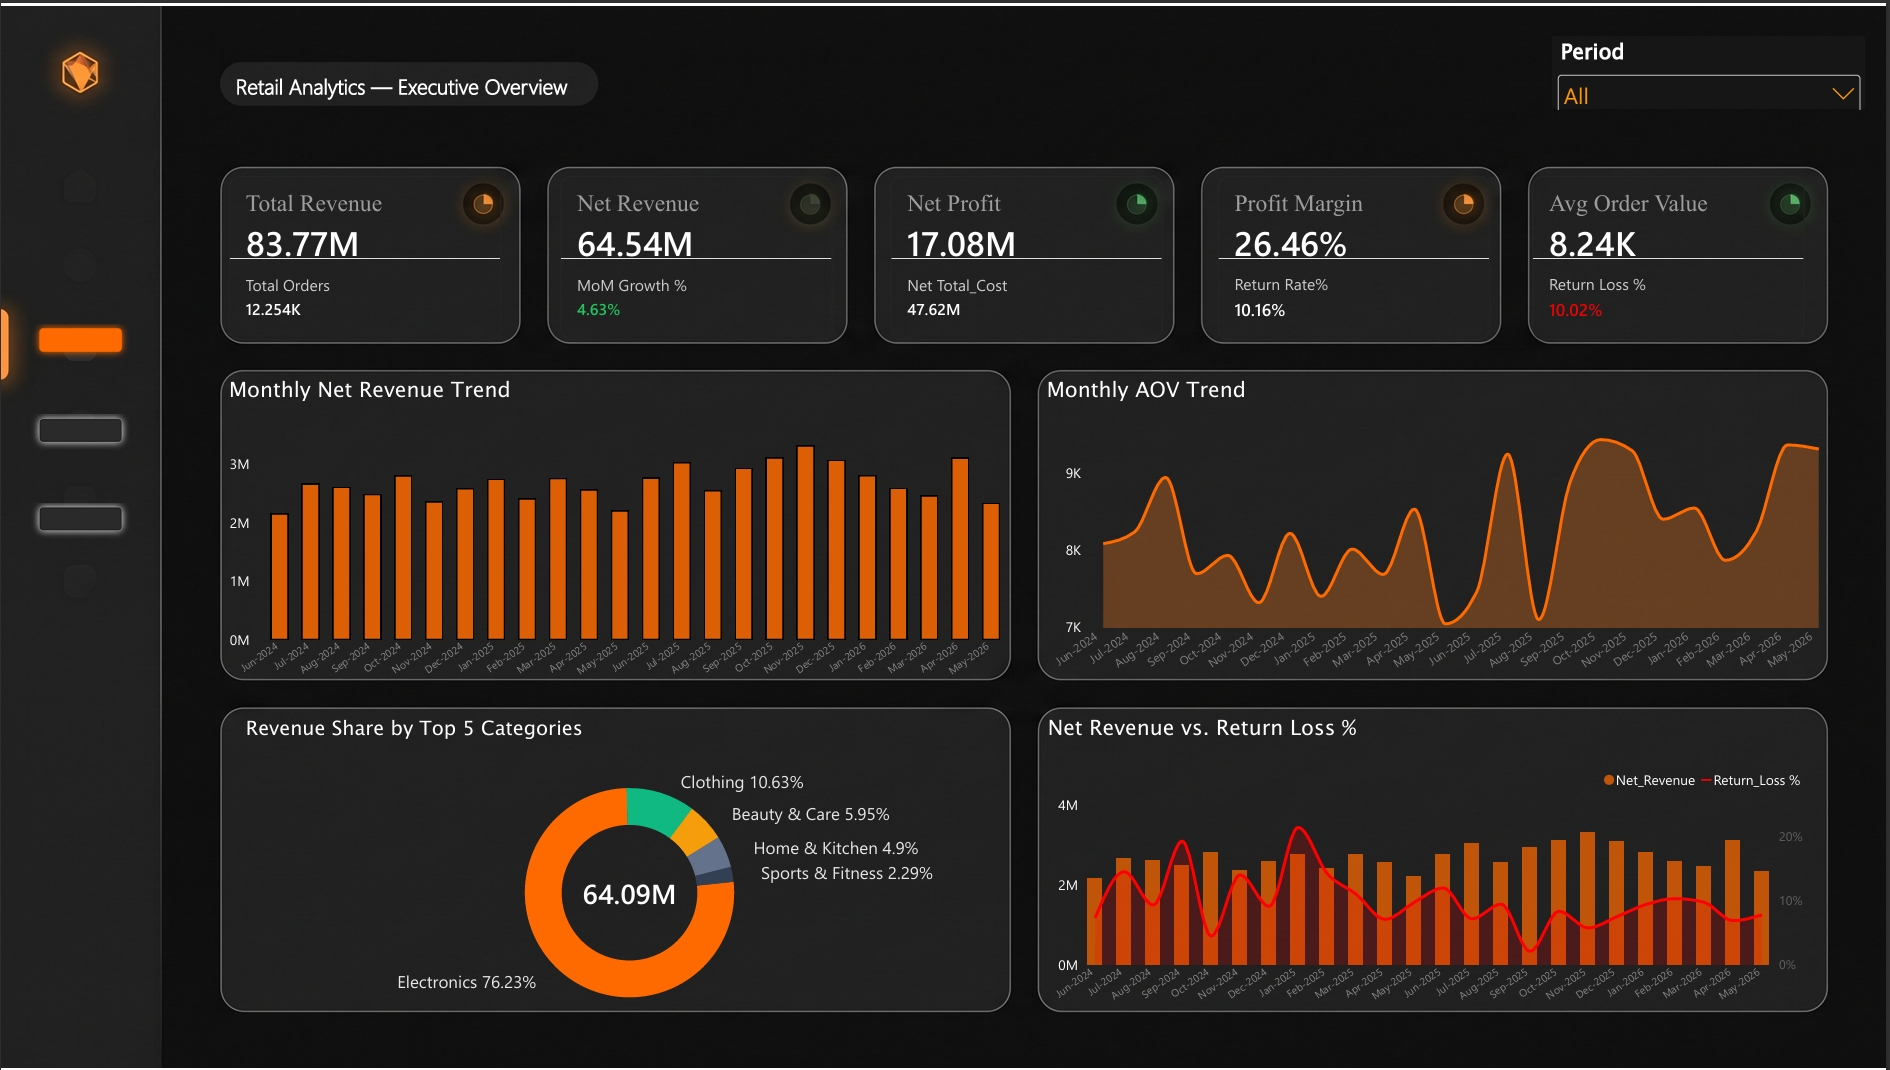

Layout of this report page (visuals, bound fields, positions):
{"tool":"powerbi","page":{"name":"Executive Overview","canvas":[1920,1080],"ordinal":0},"visuals":[{"type":"textbox","box":[127,66.3,563.2,36.8],"z":0},{"type":"slicer","fields":{"Values":["Calendar.MMM-YYYY"]},"box":[1579.6,29.6,317.9,73.5],"z":1000},{"type":"cardVisual","fields":{"Data":["Sum(Sales - Fact.Total_Sales)"]},"box":[233.3,172.2,277,167],"z":2000},{"type":"cardVisual","fields":{"Data":["Sales - Fact.Net_Revenue"]},"box":[570.4,172.2,277,167],"z":3000},{"type":"cardVisual","fields":{"Data":["Sales - Fact.Net_Profit"]},"box":[905.6,172.2,277,167],"z":4000},{"type":"cardVisual","fields":{"Data":["Sales - Fact.PM%"]},"box":[1238.9,172.2,277,167],"z":5000},{"type":"cardVisual","fields":{"Data":["Sales - Fact.AOV"]},"box":[1559.3,172.2,277,167],"z":6000},{"type":"clusteredColumnChart","title":"Monthly Net Revenue Trend","fields":{"Category":["Calendar.MMM-YYYY"],"Y":["Sales - Fact.Net_Revenue"]},"box":[233.3,374.1,796.3,313],"z":7000},{"type":"areaChart","title":"Monthly AOV Trend","fields":{"Category":["Calendar.MMM-YYYY"],"Y":["Sales - Fact.AOV"]},"box":[1064.8,374.1,798.1,316.7],"z":8000},{"type":"donutChart","title":"Revenue Share by Top 5 Categories","fields":{"Category":["Products_Dim.Category"],"Y":["Sales - Fact.Net_Revenue"]},"box":[233.7,704.9,813,347.9],"z":9000},{"type":"lineClusteredColumnComboChart","title":"Net Revenue vs. Return Loss %","fields":{"Category":["Calendar.MMM-YYYY"],"Y":["Sales - Fact.Net_Revenue"],"Y2":["Sales - Fact.Return_Loss %"]},"box":[1065.6,717.8,771.2,300],"z":10000},{"type":"actionButton","box":[32.5,319.1,100,40],"z":10001},{"type":"actionButton","box":[32.5,500.6,100,40],"z":10002},{"type":"actionButton","box":[32.5,410.8,100,40],"z":10003}]}

Visuals, with their boxes on the page's 1920x1080 design canvas (x1, y1, x2, y2). These are canvas units, not pixel positions in the 1890x1070 screenshot, which may show the page scaled, cropped or inside an application window:
textbox: l=127, t=66, r=690, b=103
slicer - Calendar.MMM-YYYY: l=1580, t=30, r=1898, b=103
cardVisual - Sum(Sales - Fact.Total_Sales): l=233, t=172, r=510, b=339
cardVisual - Sales - Fact.Net_Revenue: l=570, t=172, r=847, b=339
cardVisual - Sales - Fact.Net_Profit: l=906, t=172, r=1183, b=339
cardVisual - Sales - Fact.PM%: l=1239, t=172, r=1516, b=339
cardVisual - Sales - Fact.AOV: l=1559, t=172, r=1836, b=339
"Monthly Net Revenue Trend" clusteredColumnChart: l=233, t=374, r=1030, b=687
"Monthly AOV Trend" areaChart: l=1065, t=374, r=1863, b=691
"Revenue Share by Top 5 Categories" donutChart: l=234, t=705, r=1047, b=1053
"Net Revenue vs. Return Loss %" lineClusteredColumnComboChart: l=1066, t=718, r=1837, b=1018
actionButton: l=32, t=319, r=132, b=359
actionButton: l=32, t=501, r=132, b=541
actionButton: l=32, t=411, r=132, b=451
